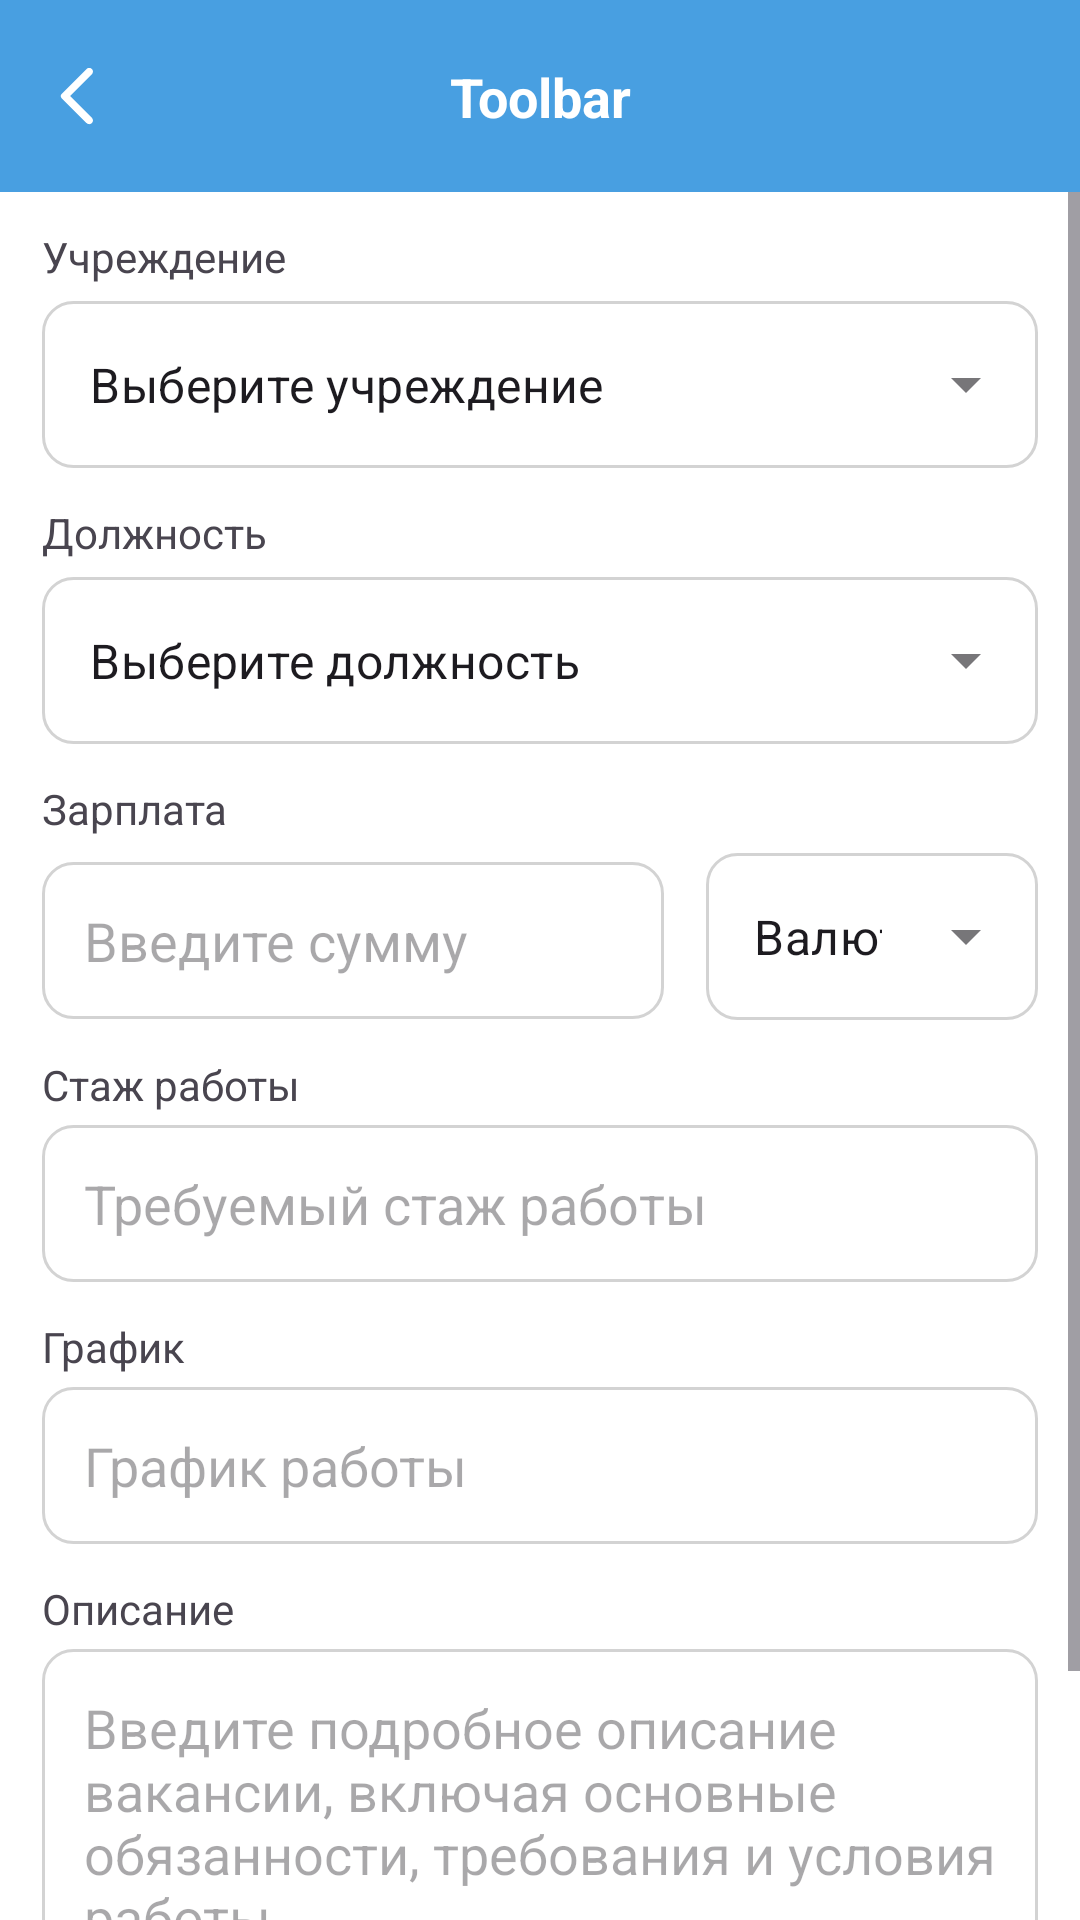

Icons on this 1080 x 1920 Android screen, each with the point to tap as point (x, y):
back: point (76, 96)
